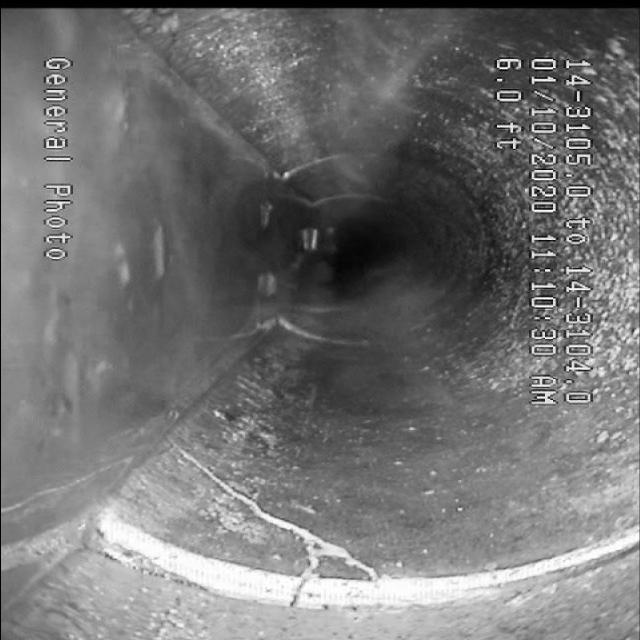Crack: (183, 455, 390, 577)
